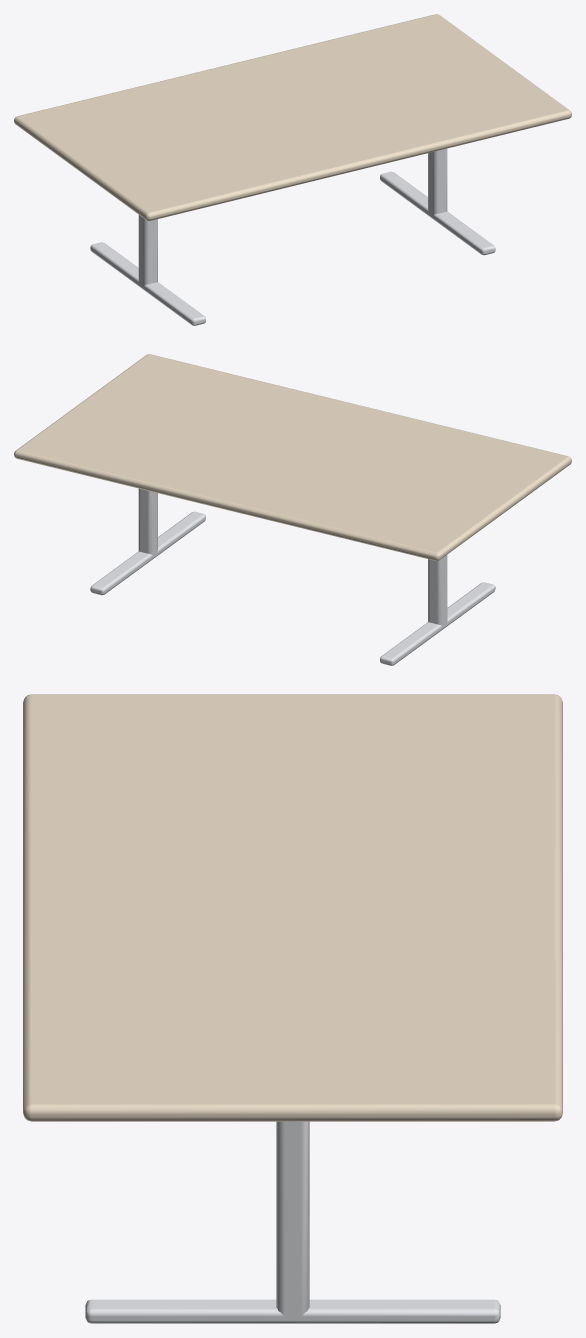
The model's file is meetingTable.glb.
3 views of the same model, one above another, from view 1: azimuth 30°, elevation 25°; view 2: azimuth 150°, elevation 25°; view 3: azimuth 270°, elevation 25° (orthographic). The views are drawn at different scales.
Visible parts, largest first — view 1: meetingTable; view 2: meetingTable; view 3: meetingTable.
Part boxes in pixels (left/top/right/bottom): meetingTable: left=14, top=14, right=571, bottom=325; meetingTable: left=14, top=354, right=571, bottom=665; meetingTable: left=23, top=694, right=562, bottom=1323.
Size of the model in its own units: 2.37 by 0.74 by 1.3.
